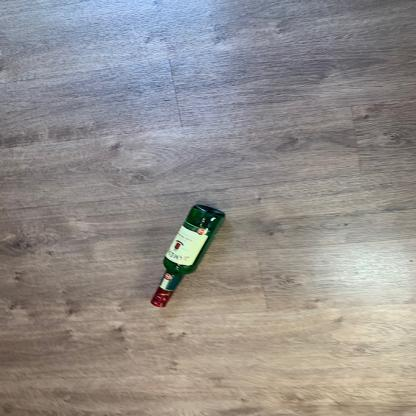trash: (150, 202, 228, 310)
